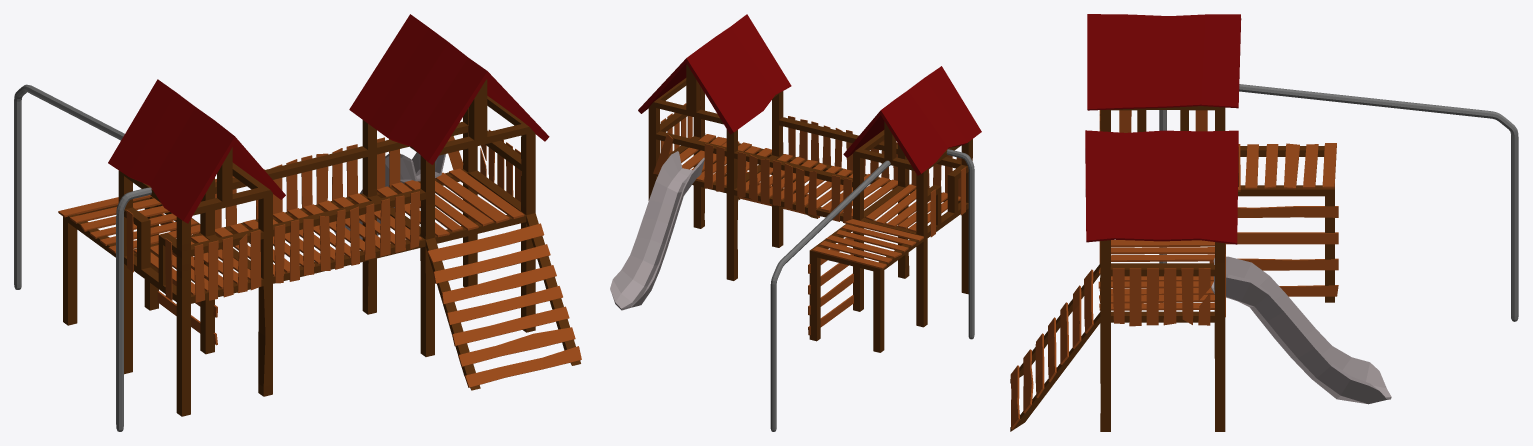
The model's file is Playground.fbx.
3 renders of one model, left to right at view 1: azimuth 30°, elevation 25°; view 2: azimuth 150°, elevation 25°; view 3: azimuth 270°, elevation 25°, orthographic. The views are drawn at different scales.
Parts seen in each view (by area): view 1: Klettergerüst; view 2: Klettergerüst; view 3: Klettergerüst.
Part boxes in pixels (x1,y1,x2,y2): Klettergerüst: (14, 14, 581, 431); Klettergerüst: (610, 14, 981, 431); Klettergerüst: (1010, 14, 1518, 431).
Size of the model in its own units: 590 by 452 by 666.
